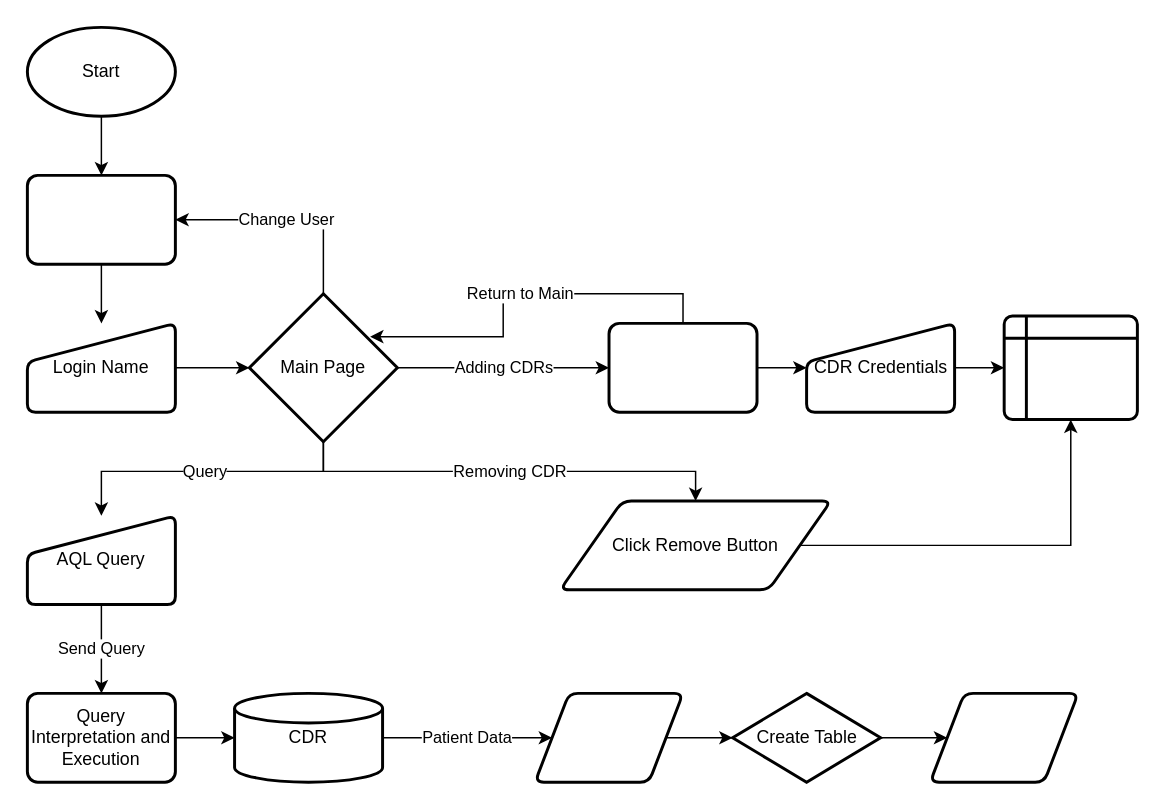
This 1163x808 diagram has some shape labels left out. The box of each missing label's shape, as (x1, y1, x2, y2) in pixels:
Add CDR Page: (607, 321, 758, 413)
Config File: (1002, 314, 1138, 420)
JSON Tree: (533, 691, 684, 783)
Login Screen: (25, 173, 176, 265)
Results Table: (928, 691, 1079, 783)
